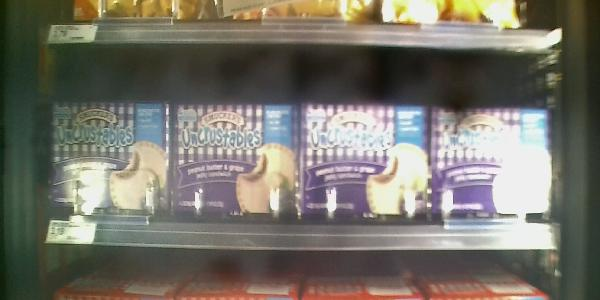icecream: (172, 98, 304, 231), (300, 97, 431, 226), (428, 106, 558, 229), (49, 100, 169, 222)
